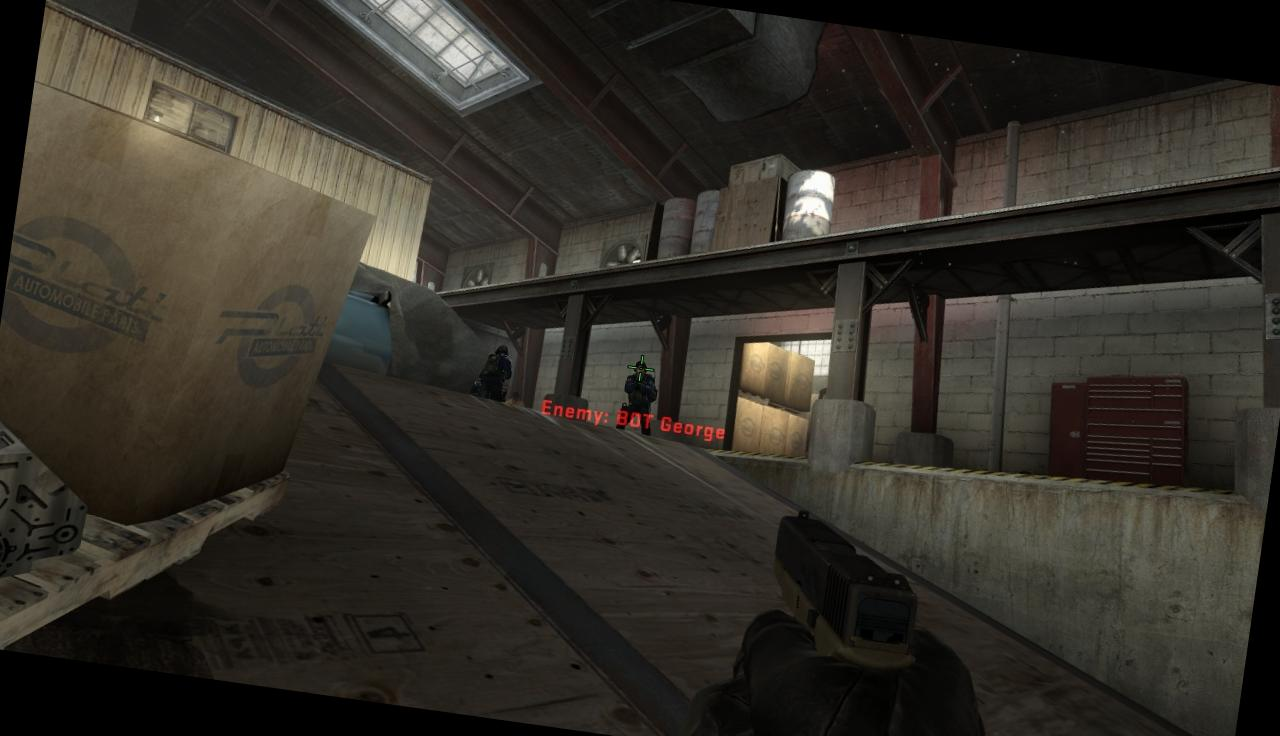ct: (618, 360, 658, 436), (478, 343, 514, 403)
cthead: (633, 360, 648, 376), (494, 344, 509, 357)
pistol: (737, 502, 1008, 736)
